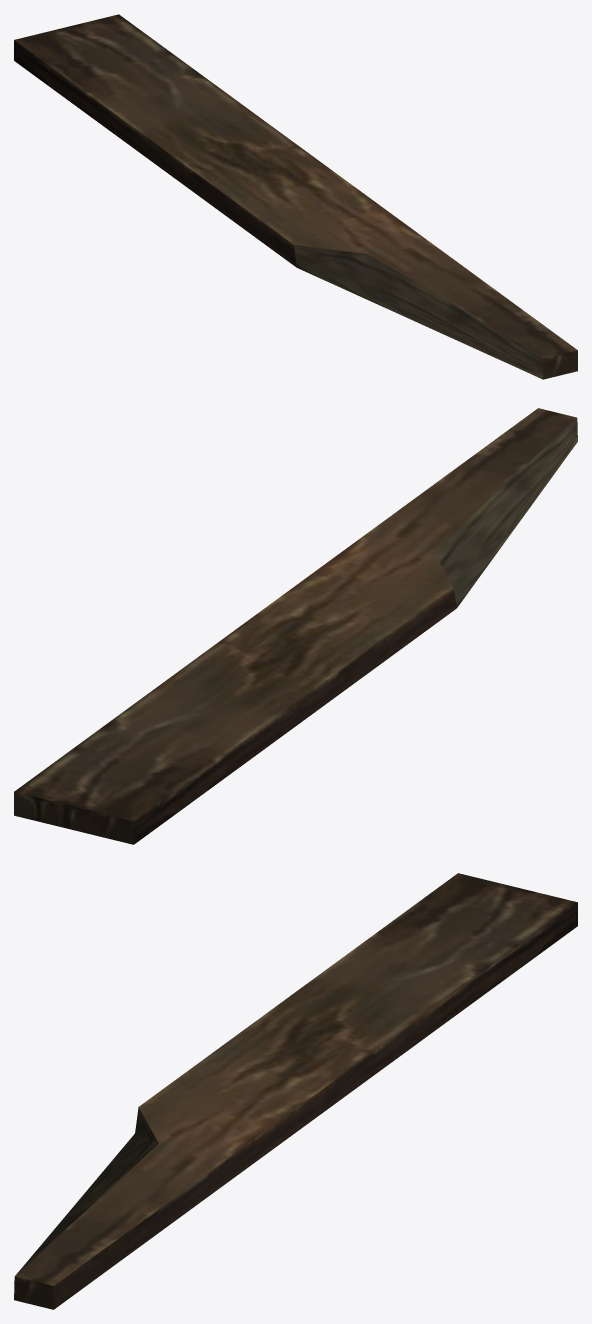
File: Z_mutou006.fbx
The picture shows the model from 3 angles, top to bottom: view 1: azimuth 30°, elevation 25°; view 2: azimuth 150°, elevation 25°; view 3: azimuth 330°, elevation 25°; orthographic projection. The views are drawn at different scales.
Parts seen in each view (by area): view 1: Z_mutou006; view 2: Z_mutou006; view 3: Z_mutou006.
Boxes of the visible parts, x1,y1,x2,y2 form: Z_mutou006: [14, 14, 577, 379]; Z_mutou006: [14, 408, 577, 844]; Z_mutou006: [14, 873, 577, 1309].
Size of the model in its own units: 81.6 by 15.49 by 618.
